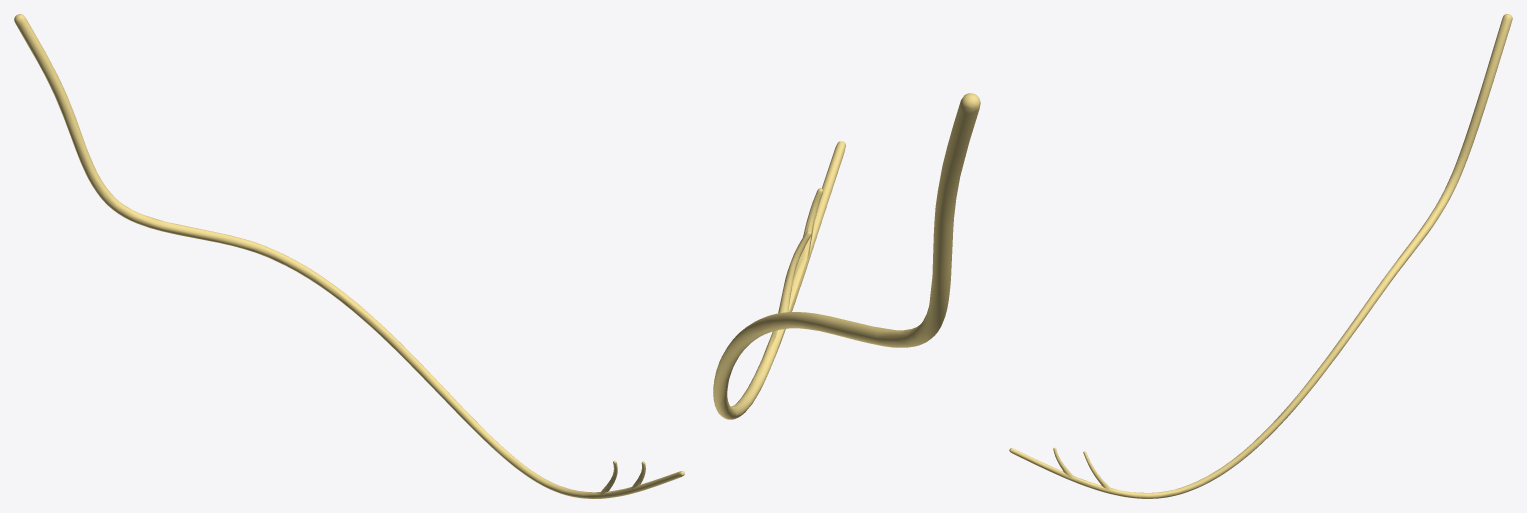
File: fma80511_fj3984.glb
3 views of the same model, side by side, from view 1: azimuth 30°, elevation 25°; view 2: azimuth 150°, elevation 25°; view 3: azimuth 270°, elevation 25° (orthographic). The views are drawn at different scales.
Visible parts, largest first — view 1: FMA80511_FJ3984; view 2: FMA80511_FJ3984; view 3: FMA80511_FJ3984.
Part boxes in pixels (<box>): FMA80511_FJ3984: <box>14,14,684,498</box>; FMA80511_FJ3984: <box>713,93,980,419</box>; FMA80511_FJ3984: <box>1009,14,1512,498</box>.
Size of the model in its own units: 0.0356 by 0.0369 by 0.0486.
